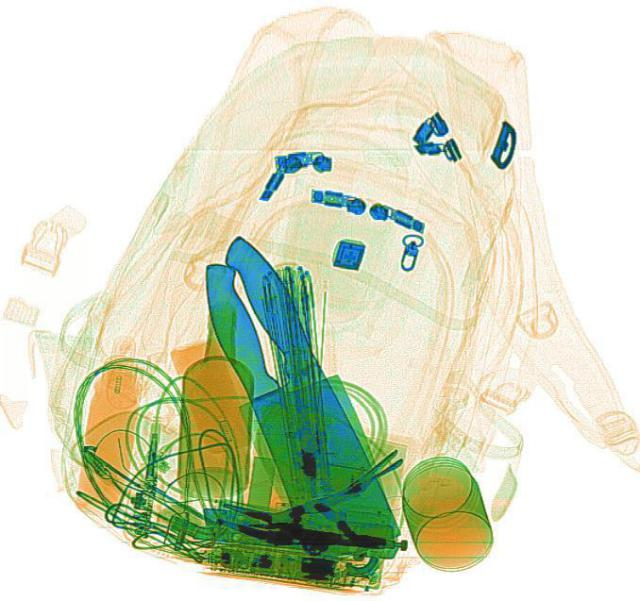Knife: (168, 227, 400, 566), (188, 242, 406, 565)
